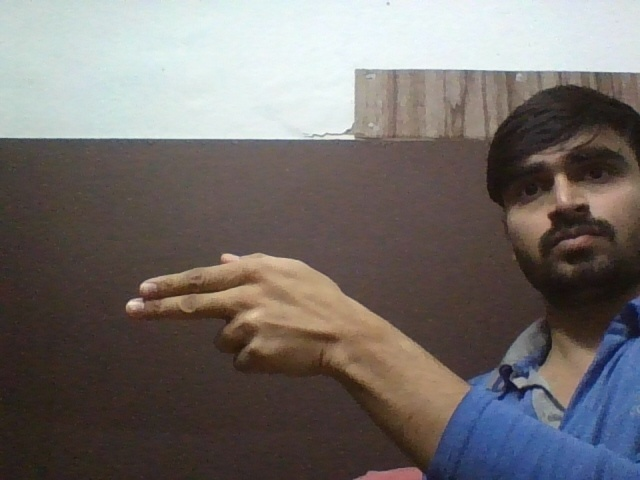H: (110, 248, 349, 378)
